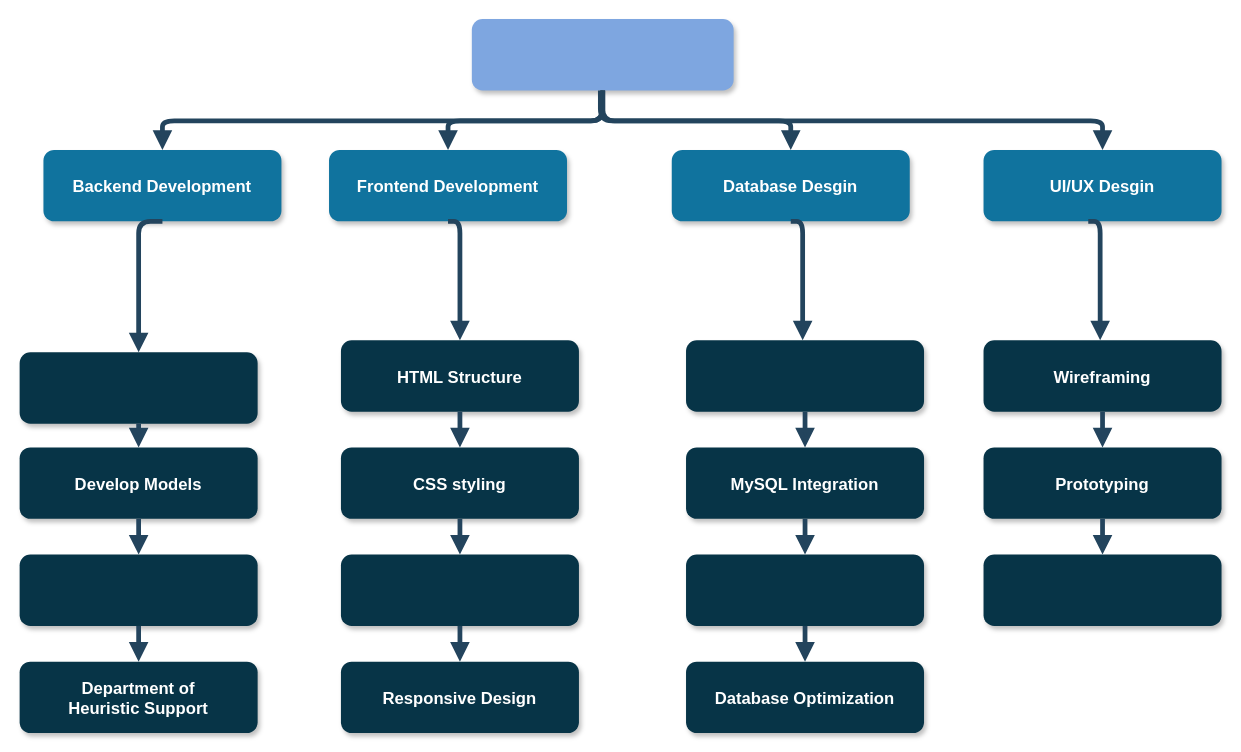
Some shapes in this 1241 by 752 pixel diagram are drawn without their labels. Each missing label, with the centre of its shape:
"Authentication System" goes at (139,591).
"CHM Web App" goes at (603,56).
"Data Security" goes at (806,591).
"Figma Design" goes at (1103,591).
"JavaScript Functionality" goes at (460,591).
"Schema Design" goes at (806,377).
"Setup Django Framework" goes at (139,389).
